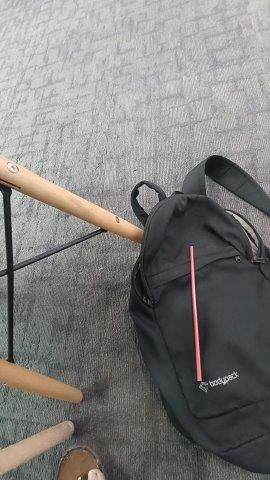sedotan: (189, 246, 201, 381)
